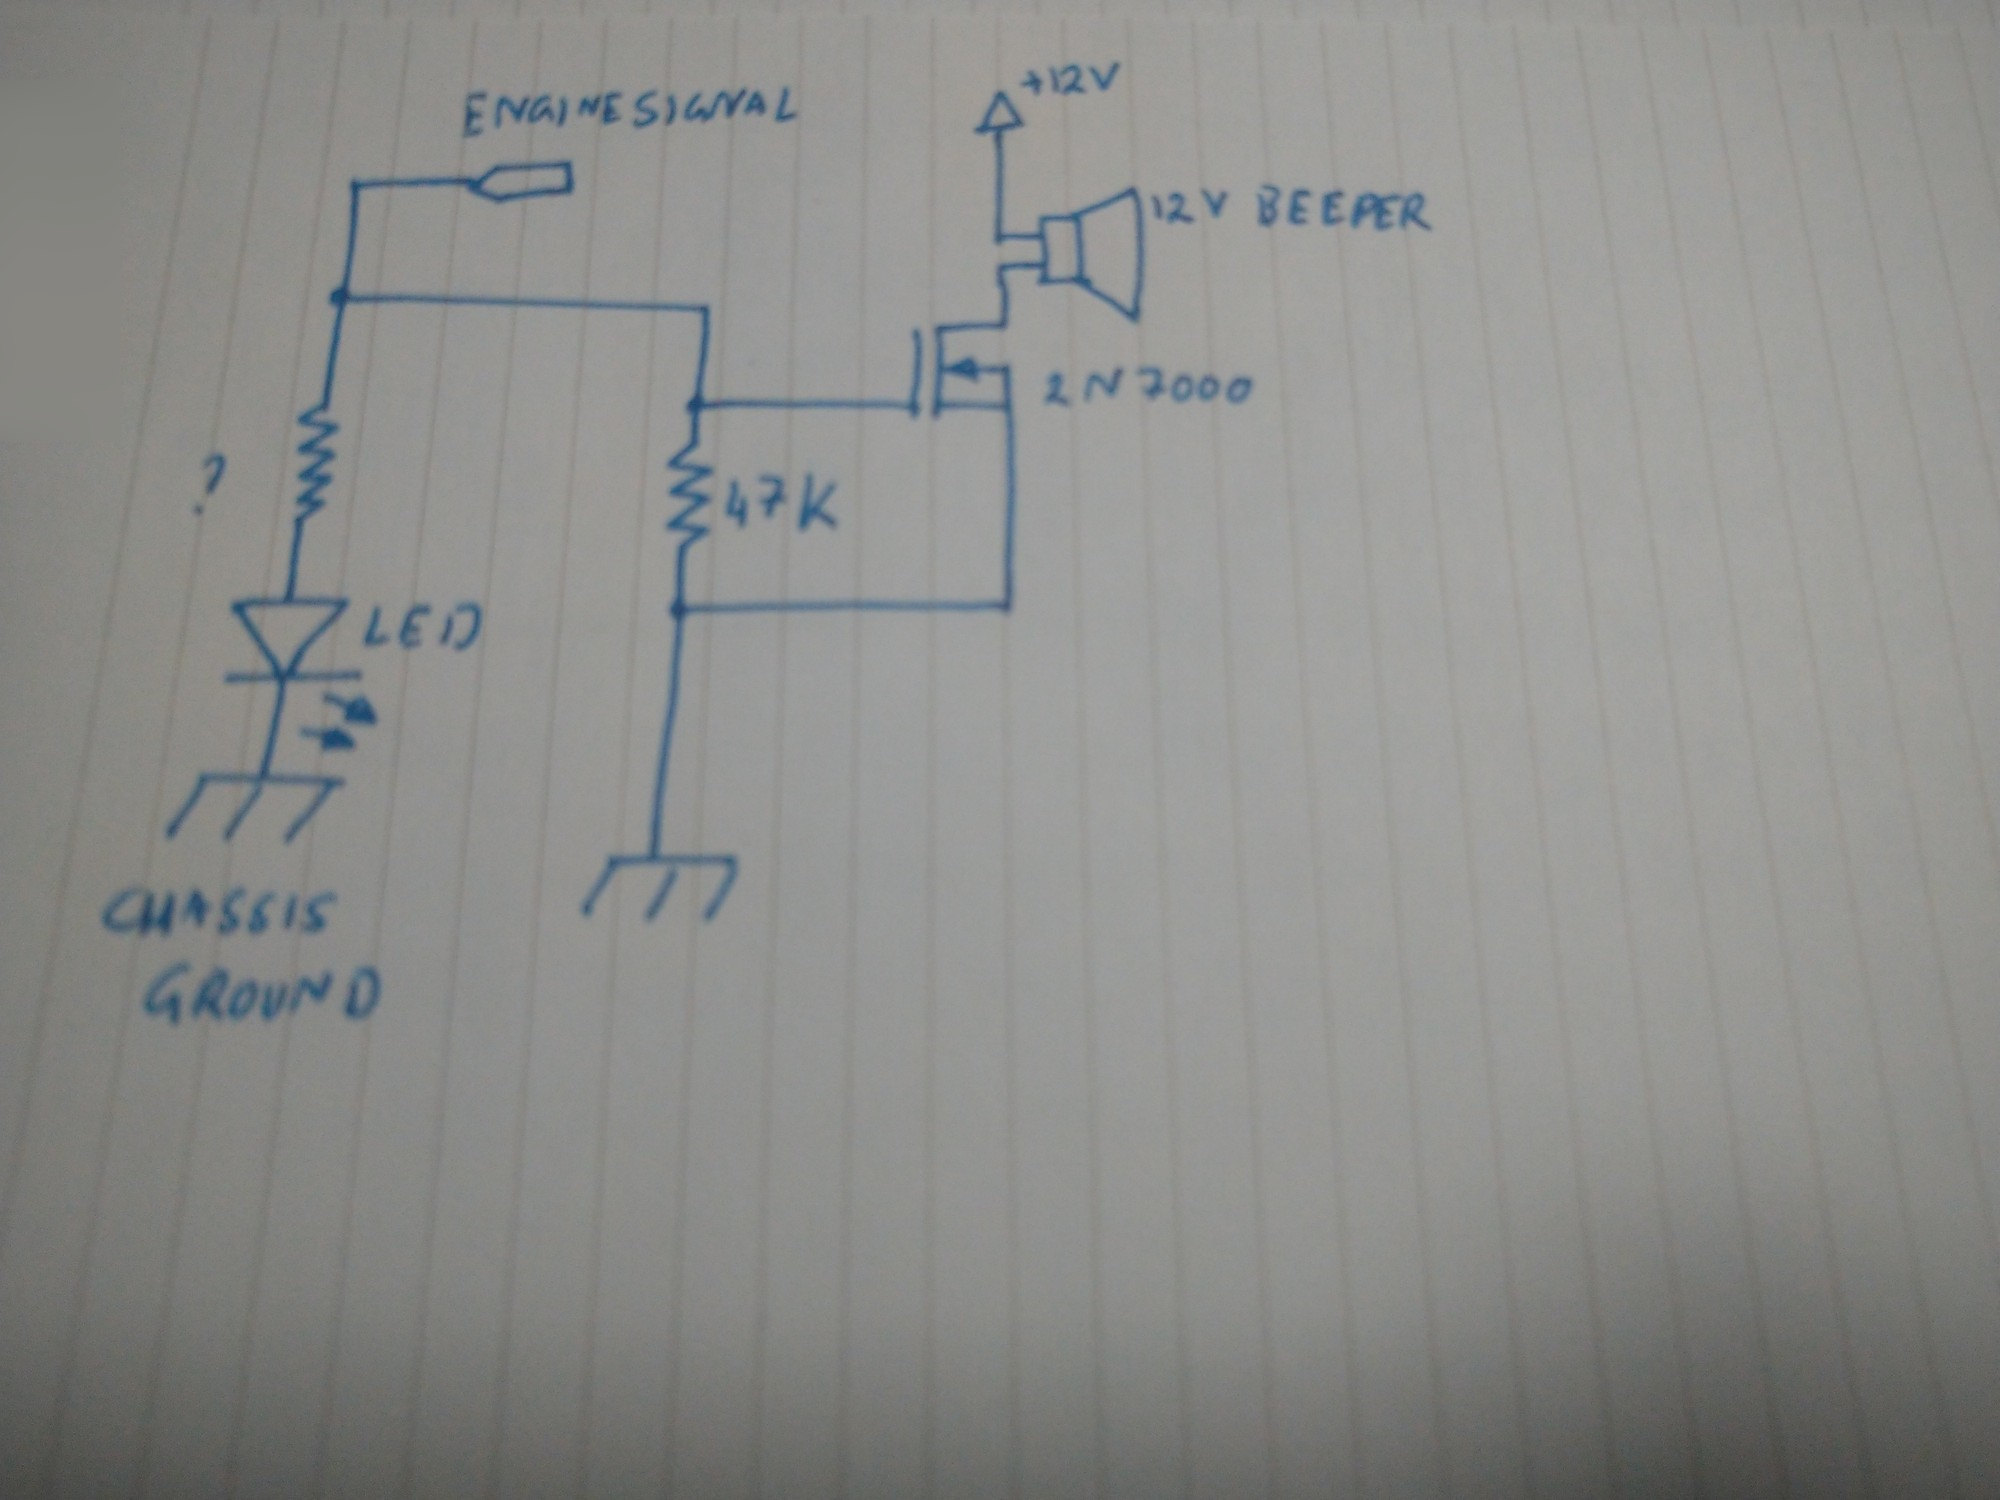diode.light_emitting: (214, 592, 381, 756)
gnd: (161, 767, 351, 851), (573, 849, 748, 930)
junction: (324, 284, 356, 314), (665, 596, 693, 627), (991, 589, 1019, 618), (682, 392, 709, 421), (691, 299, 715, 321), (343, 176, 365, 199), (991, 225, 1013, 247), (994, 258, 1013, 280)
resistor: (658, 440, 720, 561), (288, 399, 343, 526)
speaker: (1031, 180, 1146, 331)
terminal: (468, 159, 580, 206), (969, 87, 1028, 139)
text: (458, 84, 803, 143), (137, 956, 391, 1034), (98, 878, 346, 942), (1036, 362, 1265, 416), (1250, 181, 1436, 238), (723, 470, 846, 537), (361, 599, 491, 657), (1017, 58, 1128, 102), (1146, 184, 1231, 235), (187, 444, 228, 518)
transistor: (901, 314, 1024, 429)
